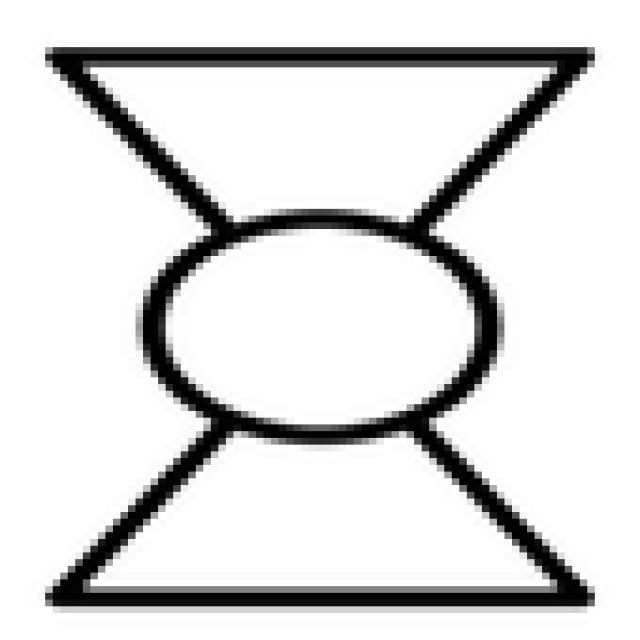ball valve: (47, 53, 588, 609)
